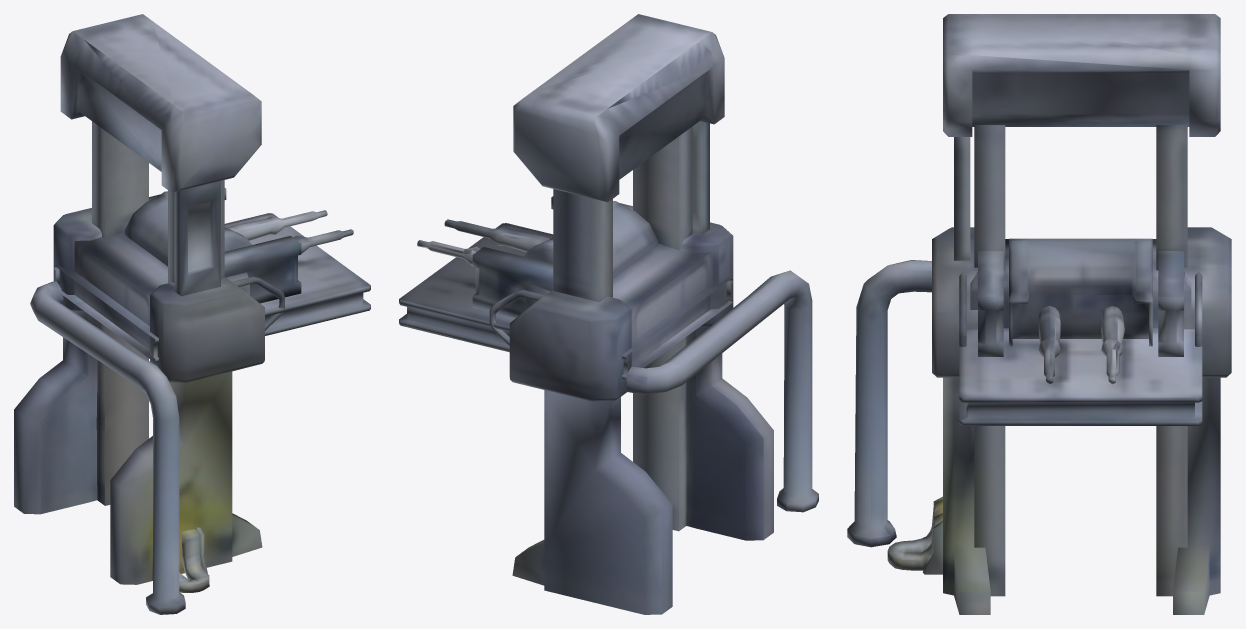
File: 整備庫_11_加工站.glb
3 views of the same model, side by side, from view 1: azimuth 30°, elevation 25°; view 2: azimuth 150°, elevation 25°; view 3: azimuth 270°, elevation 25° (orthographic). The views are drawn at different scales.
Visible parts, largest first — view 1: 11_加工站; view 2: 11_加工站; view 3: 11_加工站.
Part boxes in pixels (x1,y1,x2,y2): 11_加工站: (14, 14, 370, 614); 11_加工站: (399, 14, 818, 614); 11_加工站: (847, 14, 1231, 614).
Size of the model in its own units: 0.1021 by 0.1616 by 0.1021.
Materials: 1 (1 with a texture image).
